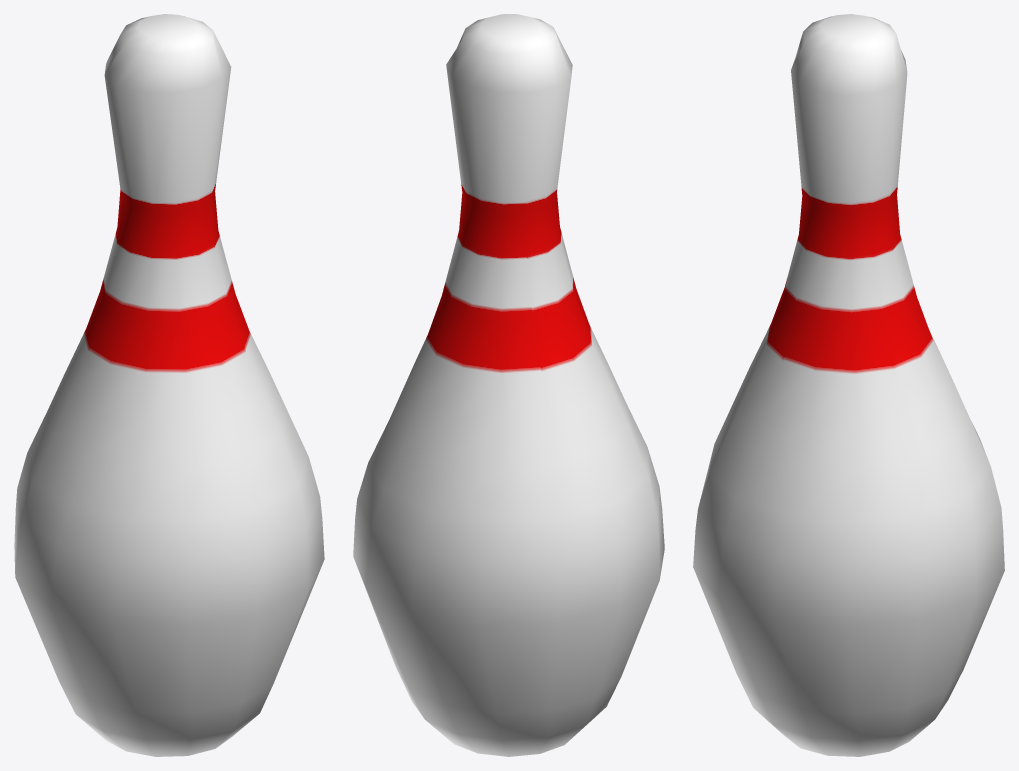
The model's file is bowling_pin2.obj.
The picture shows the model from 3 angles, left to right: view 1: azimuth 30°, elevation 25°; view 2: azimuth 150°, elevation 25°; view 3: azimuth 270°, elevation 25°; orthographic projection.
Parts seen in each view (by area): view 1: Cube; view 2: Cube; view 3: Cube.
Boxes of the visible parts, x1,y1,x2,y2 form: Cube: [14, 14, 324, 756]; Cube: [353, 14, 664, 756]; Cube: [693, 14, 1004, 756].
Bounding box in the file's own units: 2.46 × 6.14 × 2.47.
